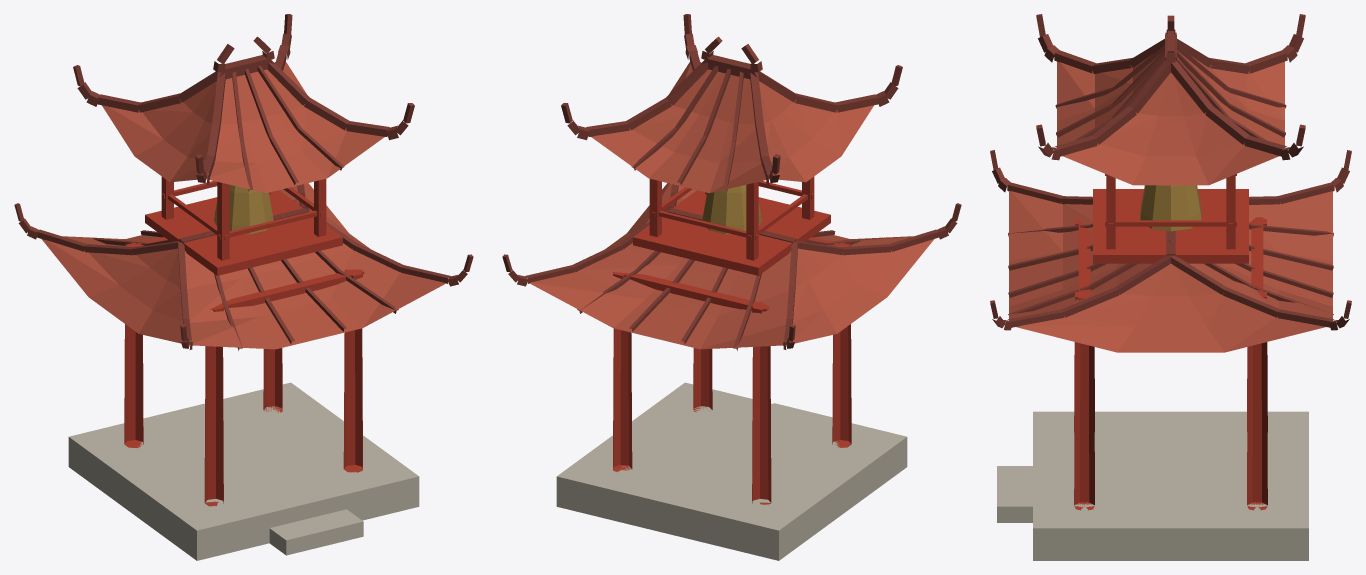
File: viet_bell_tower.glb
3 views of the same model, side by side, from view 1: azimuth 30°, elevation 25°; view 2: azimuth 150°, elevation 25°; view 3: azimuth 270°, elevation 25° (orthographic). The views are drawn at different scales.
Parts seen in each view (by area): view 1: viet_bell_tower; view 2: viet_bell_tower; view 3: viet_bell_tower.
Boxes of the visible parts, <box> form: viet_bell_tower: <box>14,14,473,560</box>; viet_bell_tower: <box>502,14,961,560</box>; viet_bell_tower: <box>990,14,1351,560</box>.
Bounding box in the file's own units: 0.6838 × 1 × 0.684.
